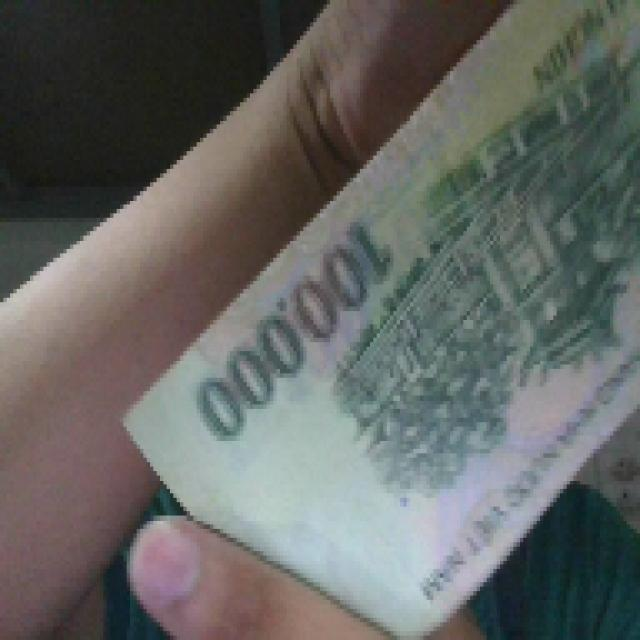100 000 VND: (110, 0, 637, 636)
